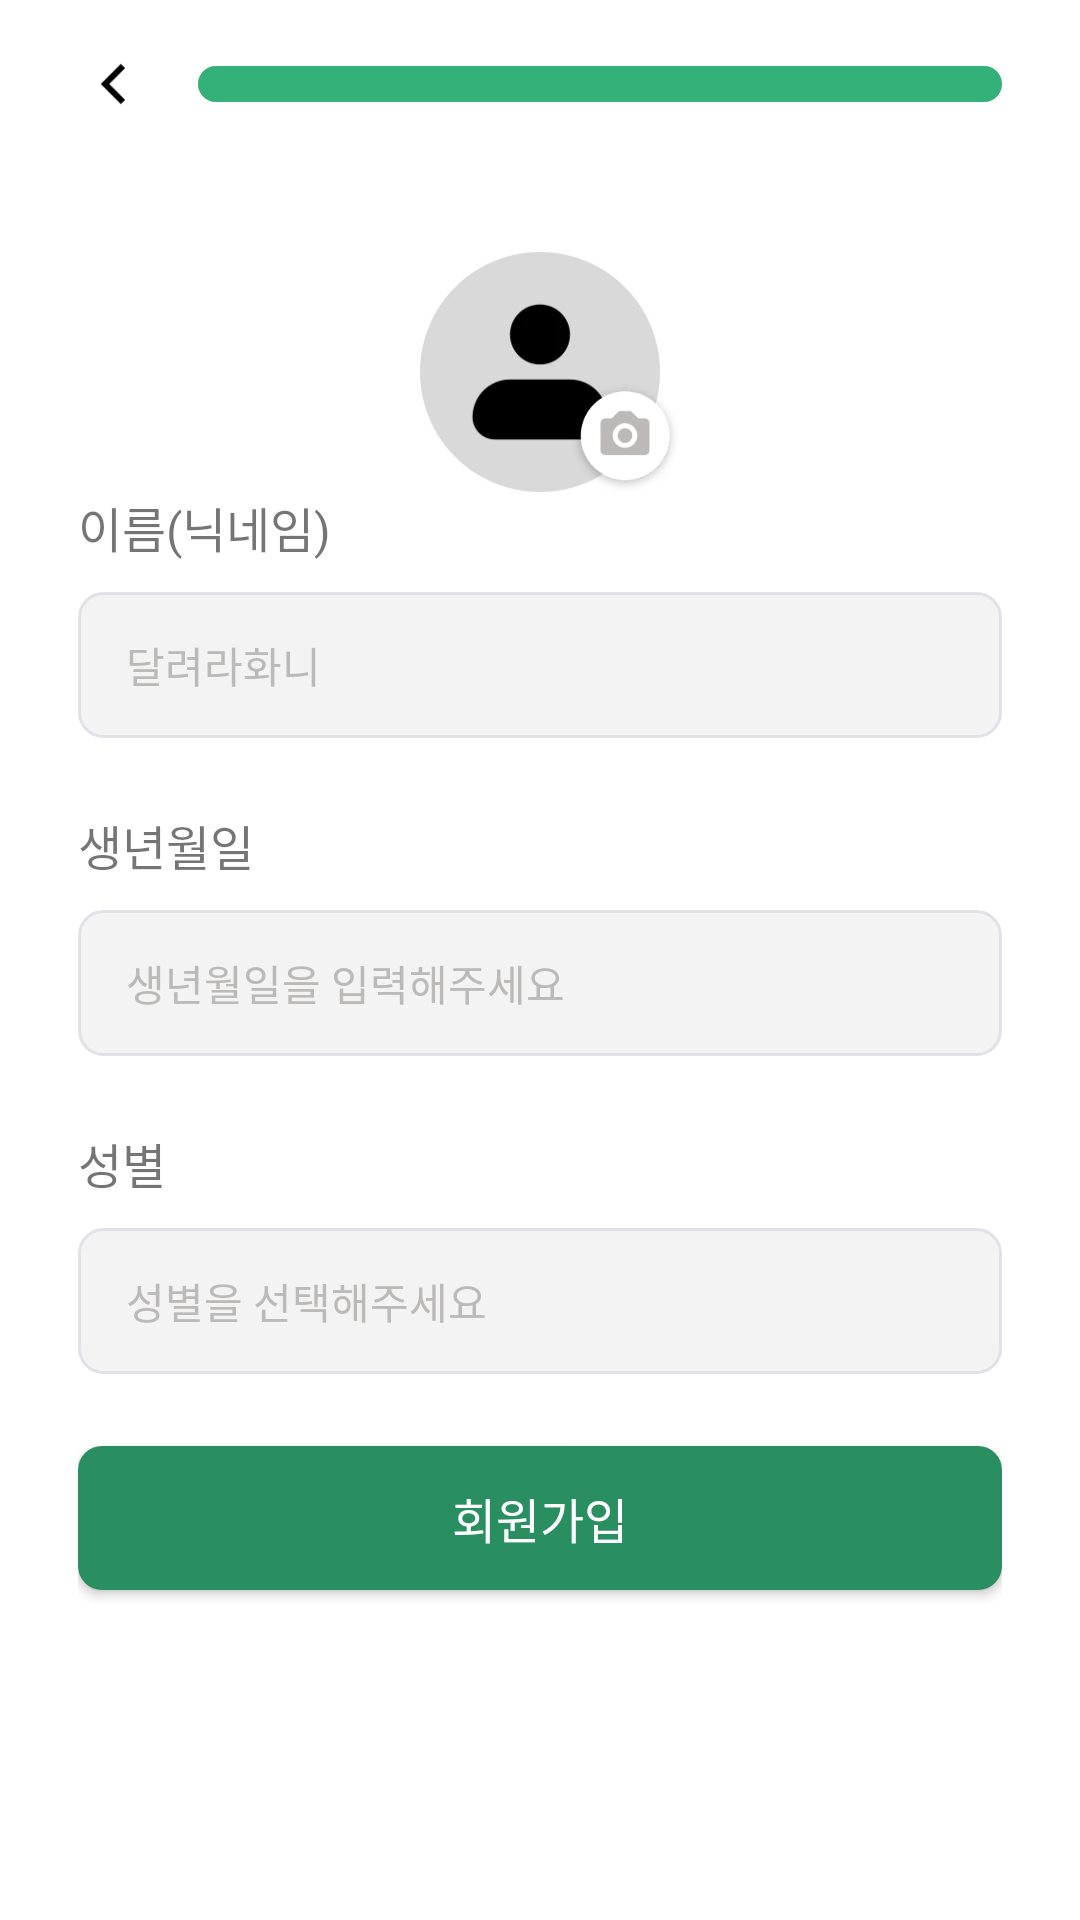

Icon bounding boxes for this 1080*1920 phone screenshot, format (x1, y1, x2, y2):
left arrow: (101, 63, 125, 105)
